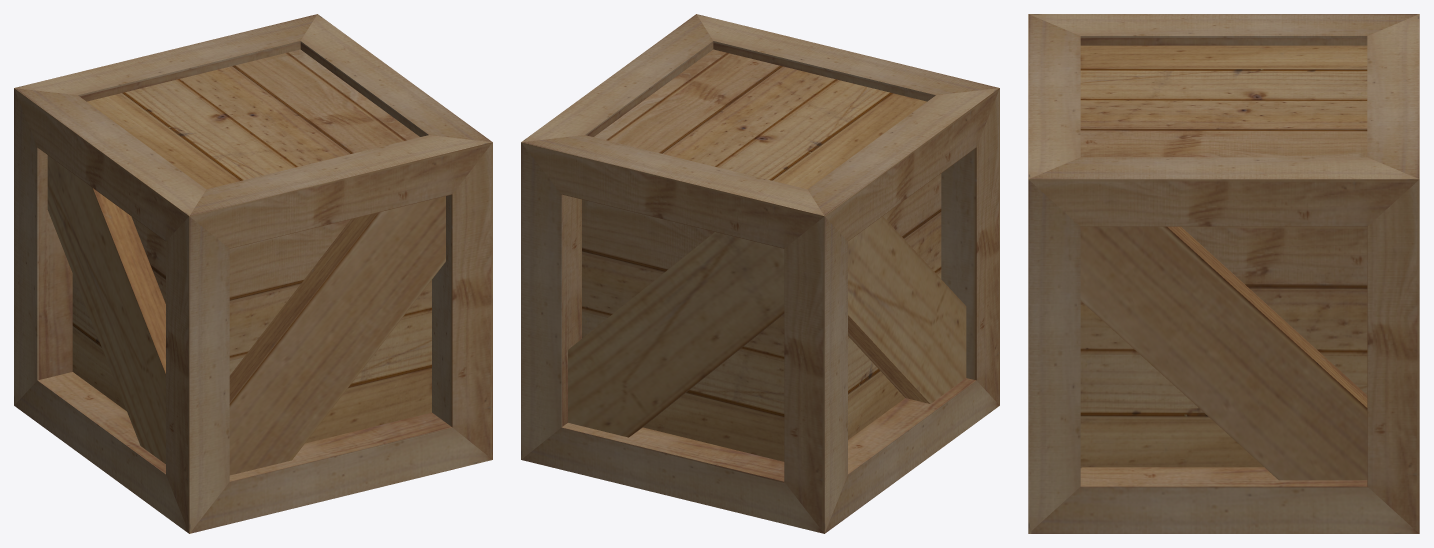
File: RealBox.fbx
3 renders of one model, left to right at view 1: azimuth 30°, elevation 25°; view 2: azimuth 150°, elevation 25°; view 3: azimuth 270°, elevation 25°, orthographic. The views are drawn at different scales.
Visible parts, largest first — view 1: pCube6; view 2: pCube6; view 3: pCube6.
Part boxes in pixels (left/top/right/bottom): pCube6: left=14, top=14, right=492, bottom=533; pCube6: left=521, top=14, right=999, bottom=533; pCube6: left=1028, top=14, right=1419, bottom=533.
Bounding box in the file's own units: 0.1 × 0.1 × 0.1.
